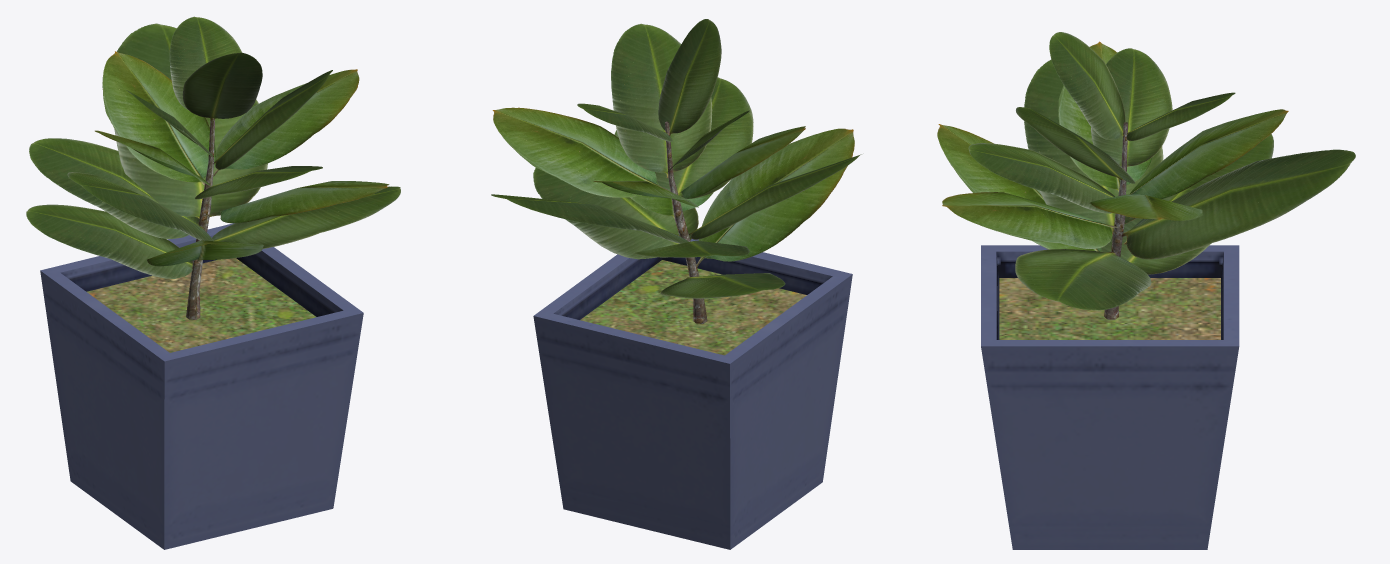
The model's file is MB_Pot_Flower_08.fbx.
The picture shows the model from 3 angles, left to right: view 1: azimuth 30°, elevation 25°; view 2: azimuth 150°, elevation 25°; view 3: azimuth 270°, elevation 25°; orthographic projection. The views are drawn at different scales.
Parts seen in each view (by area): view 1: MB_Pot_Flower_08_LOD0; view 2: MB_Pot_Flower_08_LOD0; view 3: MB_Pot_Flower_08_LOD0.
Part boxes in pixels (box(x1,y1,x2,y2)): MB_Pot_Flower_08_LOD0: box(26, 16, 400, 549); MB_Pot_Flower_08_LOD0: box(491, 19, 861, 549); MB_Pot_Flower_08_LOD0: box(937, 32, 1355, 549).
Size of what is drawn, in the model's own units: 62.7 by 79.37 by 68.84.
